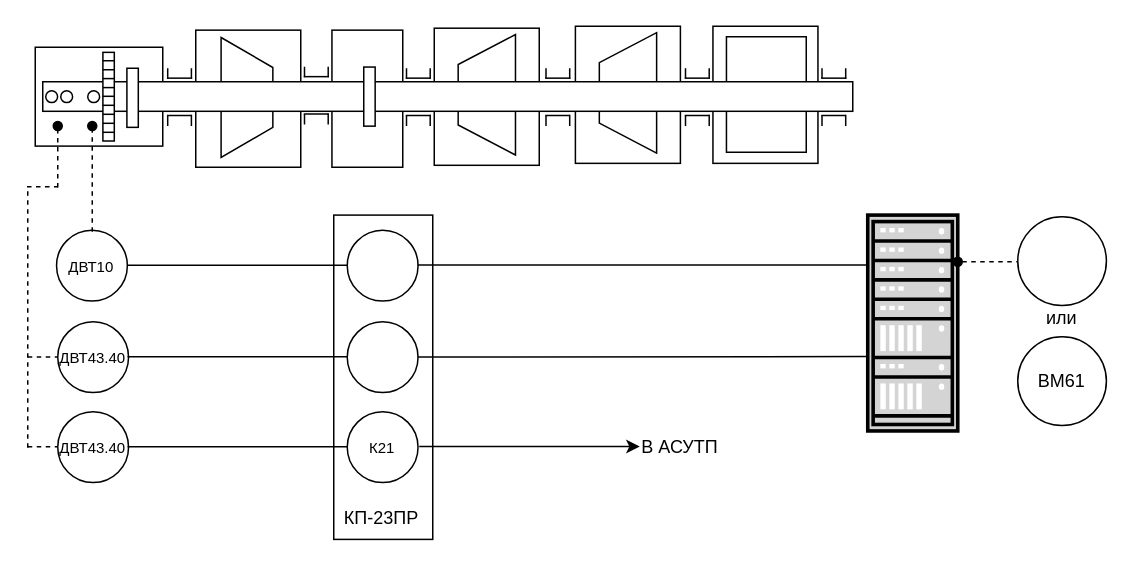
The diagram is 1133 pixels wide and 567 high, and some of its shapes have lost their labels. Each missing label, with the centre of its shape:
"ИП34" goes at pixel 382 356.
"К22" goes at pixel 382 265.
"МК22" goes at pixel 1061 260.
